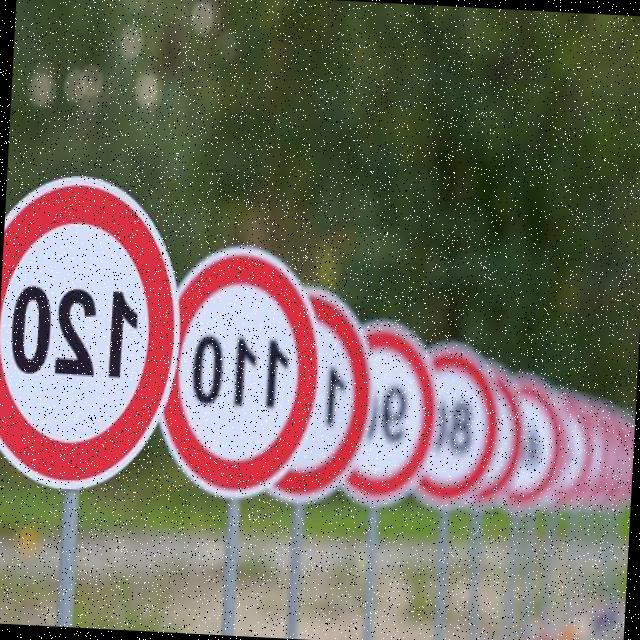speed_limit_120: (0, 167, 191, 493)
